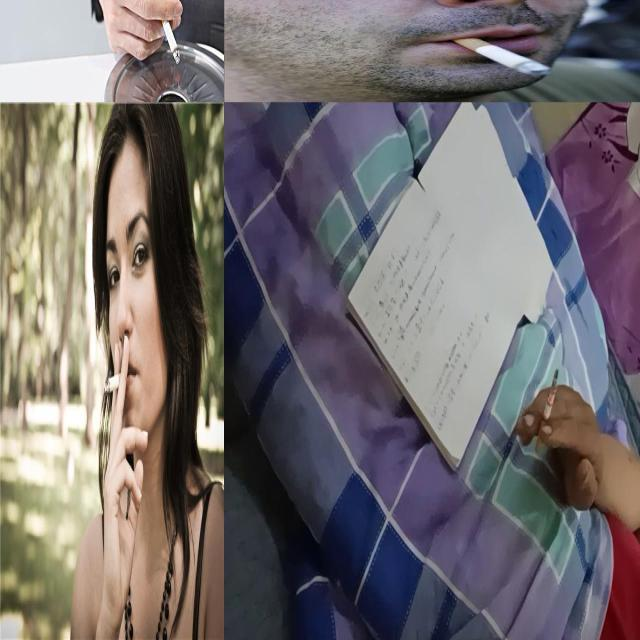smoking: (453, 37, 552, 76), (535, 370, 559, 456), (158, 8, 182, 63), (104, 370, 127, 394)
